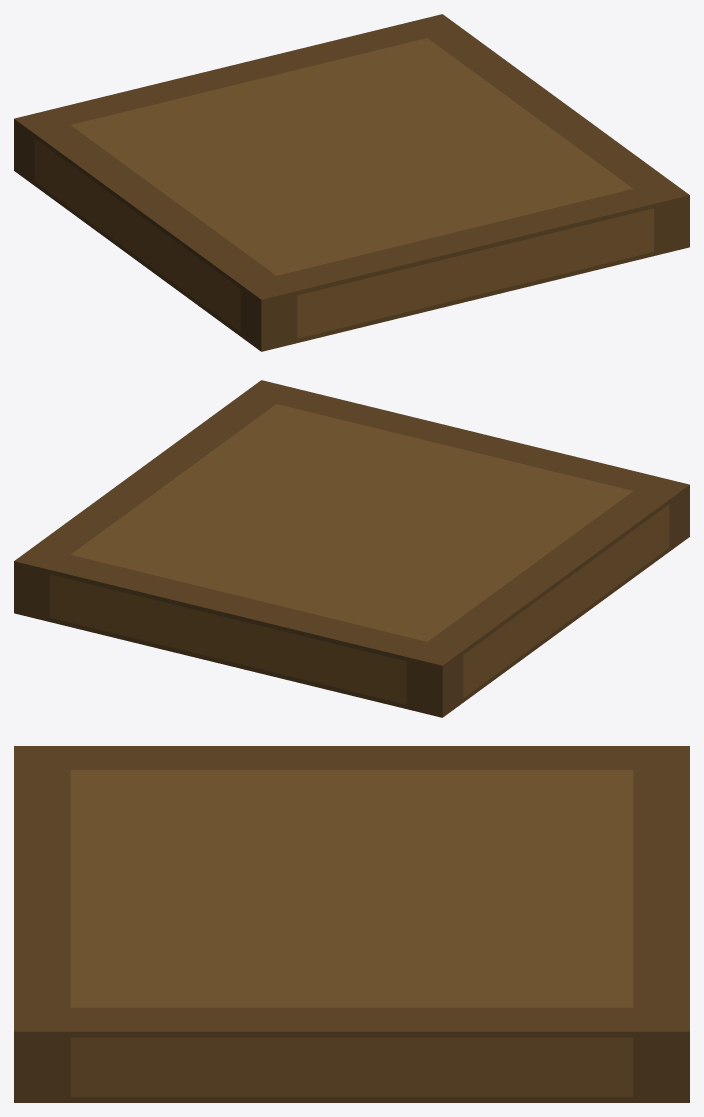
File: Low_Poly_Plot.fbx
3 renders of one model, top to bottom at view 1: azimuth 30°, elevation 25°; view 2: azimuth 150°, elevation 25°; view 3: azimuth 270°, elevation 25°, orthographic. The views are drawn at different scales.
Visible parts, largest first — view 1: FarmPlot; view 2: FarmPlot; view 3: FarmPlot.
Boxes of the visible parts, box(x1,y1,x2,y2) form: FarmPlot: box(14, 14, 689, 351); FarmPlot: box(14, 380, 689, 717); FarmPlot: box(14, 746, 689, 1102).
Bounding box in the file's own units: 200 × 23.26 × 200.
